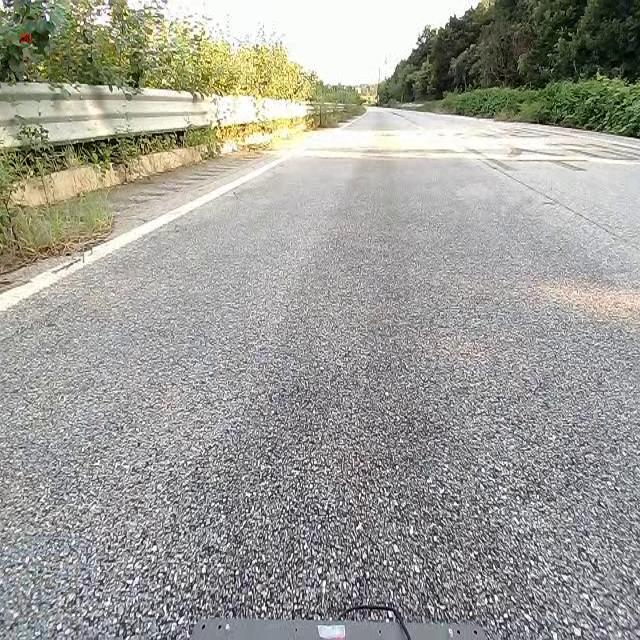Lane: (2, 135, 306, 317), (0, 148, 302, 313)
